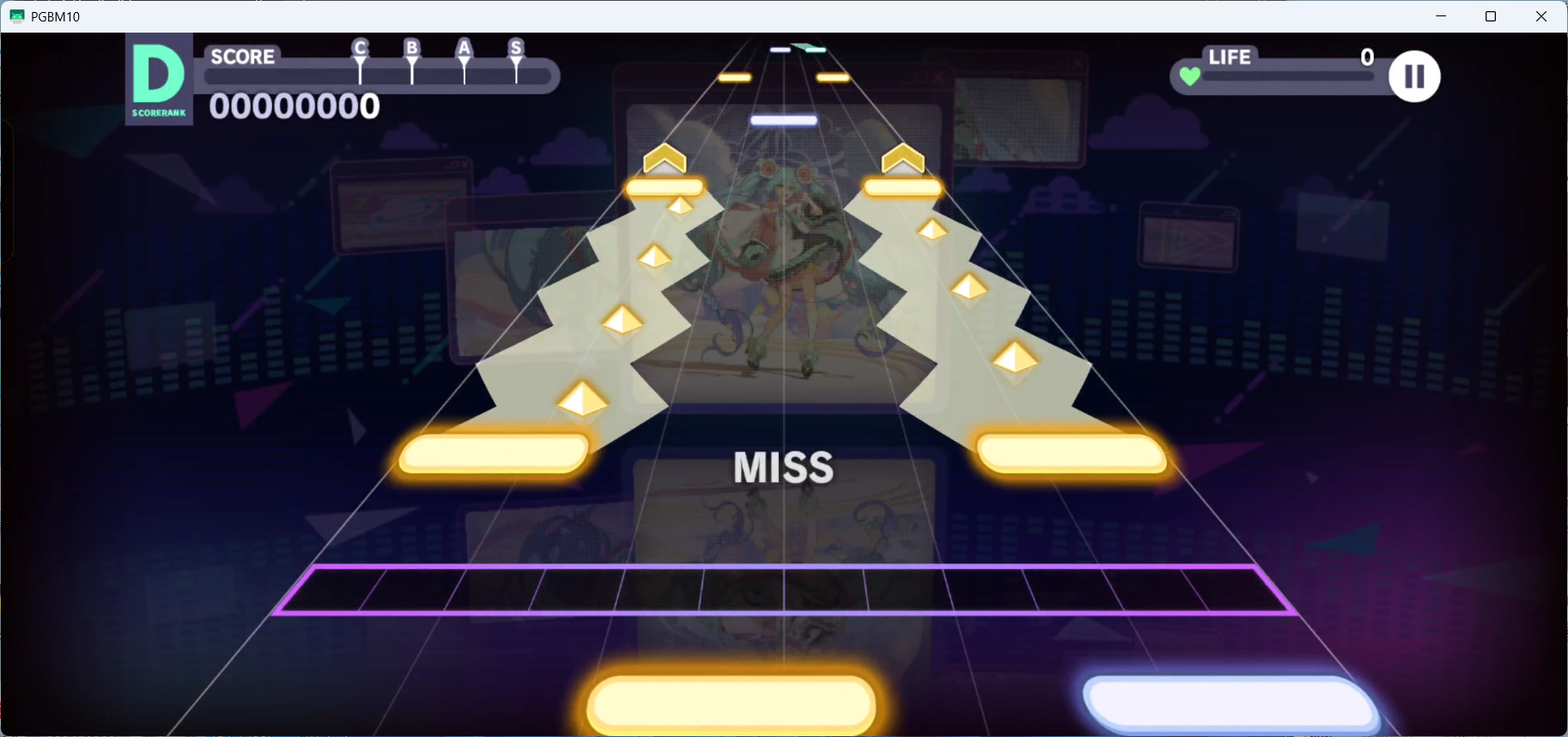flick: (881, 141, 925, 178), (643, 142, 687, 178)
hold: (844, 196, 1129, 434), (443, 198, 725, 437), (791, 44, 817, 48)
sweep: (557, 382, 608, 430), (993, 342, 1038, 387), (602, 306, 645, 348), (951, 274, 987, 310), (638, 245, 672, 278), (918, 220, 947, 248), (666, 196, 694, 224)
tap: (585, 677, 878, 737), (1084, 677, 1380, 734), (976, 433, 1169, 474), (399, 434, 590, 474), (625, 178, 702, 196), (865, 179, 941, 196), (751, 115, 817, 127), (718, 74, 751, 82), (817, 74, 849, 82), (770, 47, 791, 52), (805, 47, 825, 52)
